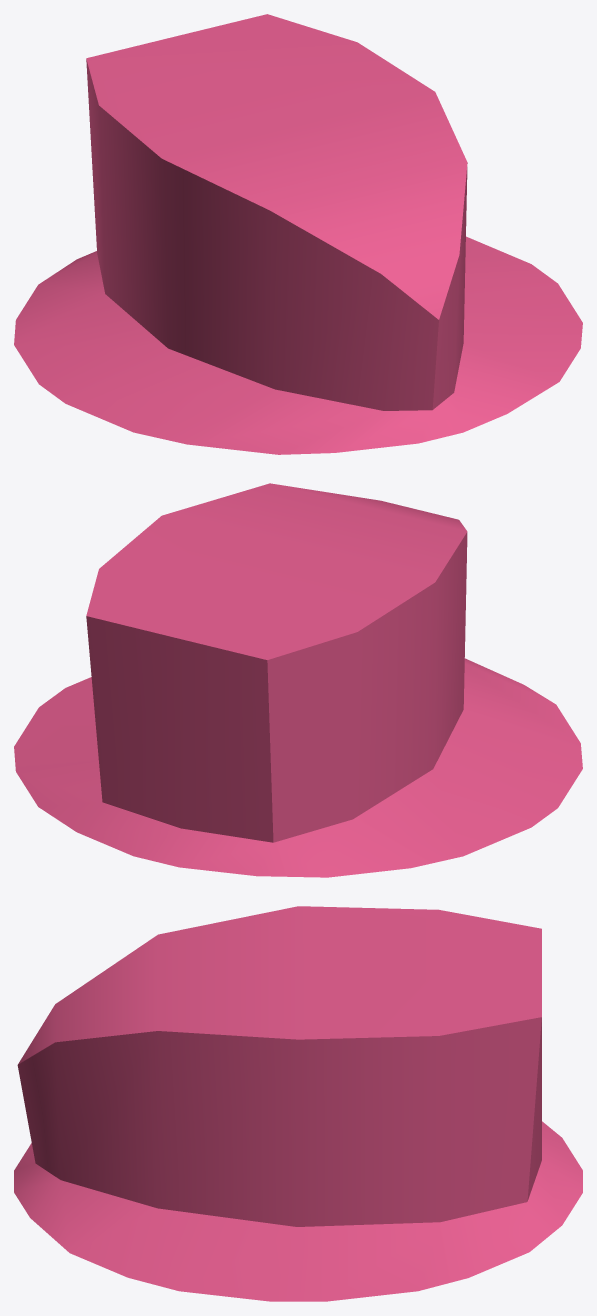
Rendered from Potentiometer1.fbx.
3 views of the same model, one above another, from view 1: azimuth 30°, elevation 25°; view 2: azimuth 150°, elevation 25°; view 3: azimuth 270°, elevation 25° (orthographic).
Visible parts, largest first — view 1: Potentiometer1; view 2: Potentiometer1; view 3: Potentiometer1.
Boxes of the visible parts, x1,y1,x2,y2 form: Potentiometer1: (14, 14, 582, 454); Potentiometer1: (14, 483, 582, 877); Potentiometer1: (14, 906, 582, 1301).
Bounding box in the file's own units: 3.17 × 1.28 × 3.17.
